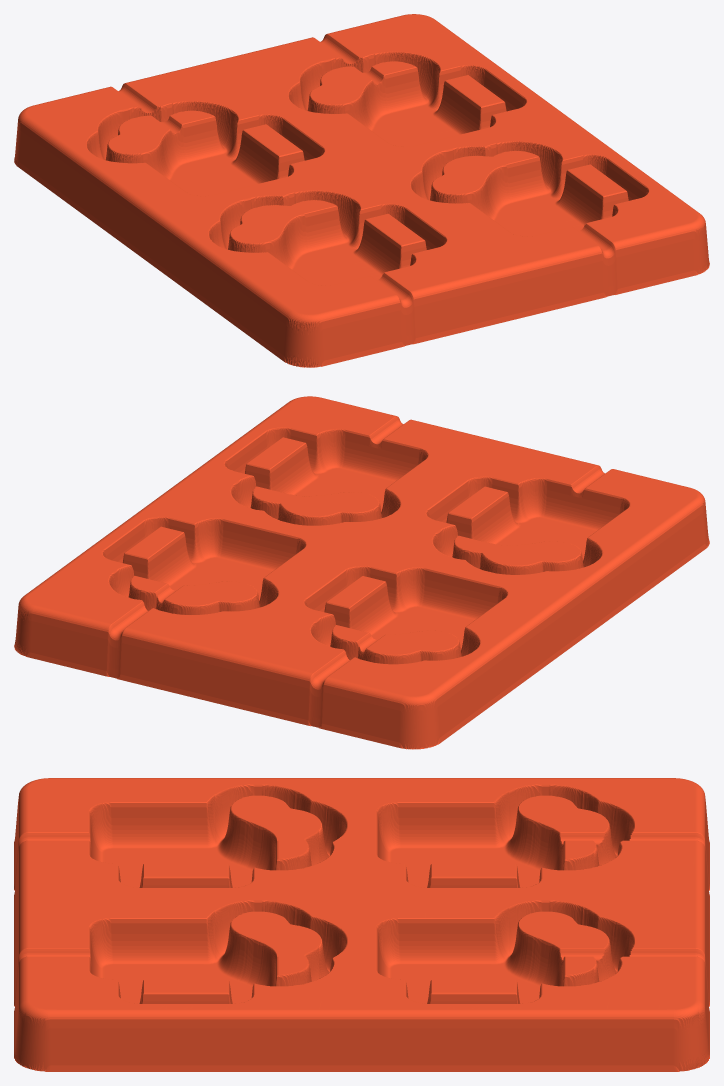
File: mold.glb
The picture shows the model from 3 angles, top to bottom: view 1: azimuth 30°, elevation 25°; view 2: azimuth 150°, elevation 25°; view 3: azimuth 270°, elevation 25°; orthographic projection. The views are drawn at different scales.
Parts seen in each view (by area): view 1: geometry_0; view 2: geometry_0; view 3: geometry_0.
Boxes of the visible parts, x1,y1,x2,y2 form: geometry_0: (14,14,709,367); geometry_0: (14,396,709,749); geometry_0: (14,778,709,1071).
Size of the model in its own units: 0.1431 by 0.0155 by 0.1735.
